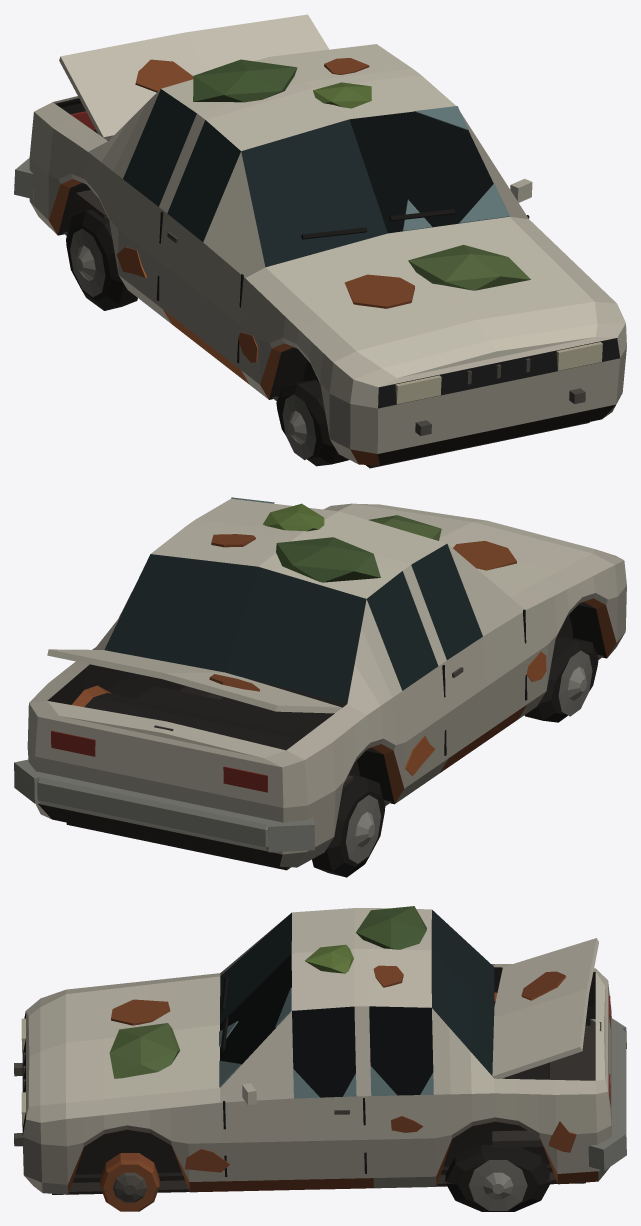
The model's file is carro_abandonado_3.glb.
The picture shows the model from 3 angles, top to bottom: view 1: azimuth 30°, elevation 25°; view 2: azimuth 150°, elevation 25°; view 3: azimuth 270°, elevation 25°; orthographic projection. The views are drawn at different scales.
Visible parts, largest first — view 1: carro_abandonado_3.001; view 2: carro_abandonado_3.001; view 3: carro_abandonado_3.001.
Part boxes in pixels (x1,y1,x2,y2): carro_abandonado_3.001: (14, 14, 626, 468); carro_abandonado_3.001: (14, 497, 626, 877); carro_abandonado_3.001: (14, 906, 626, 1211).
Size of the model in its own units: 1.71 by 1.34 by 3.33.
